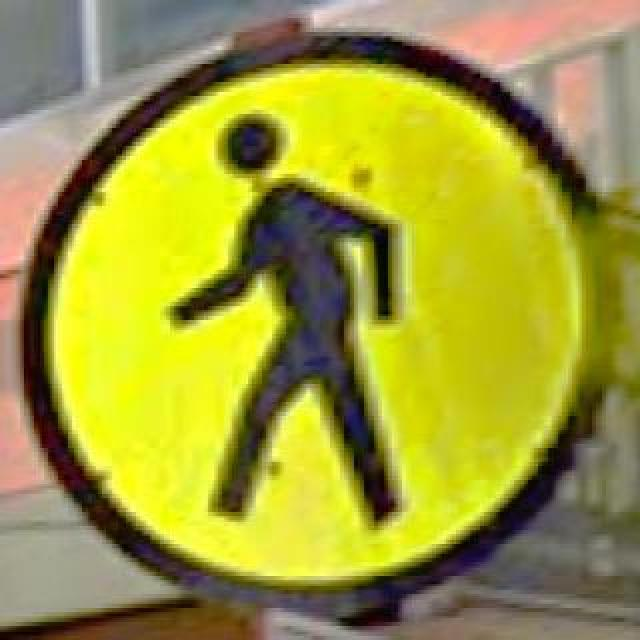pedestrian crossing: (10, 28, 616, 612)
